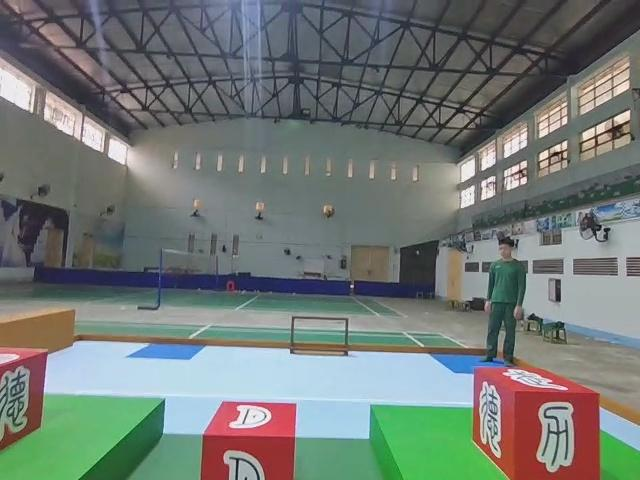R2 Fake: (470, 363, 605, 480), (0, 344, 50, 451)
R2 Real: (198, 396, 299, 480)
